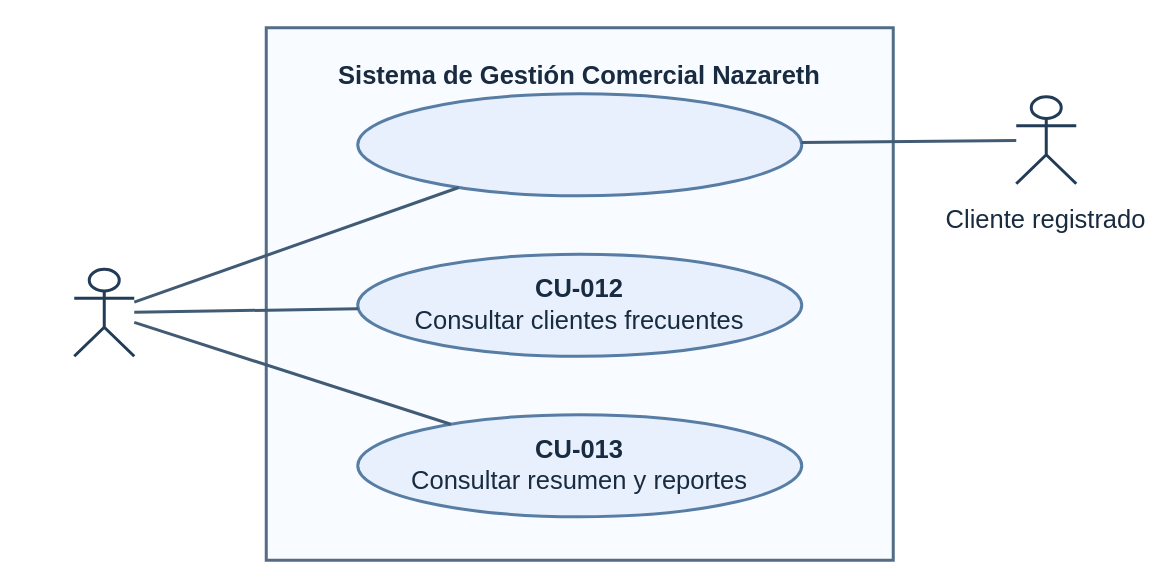
Some shapes in this 1173 by 587 pixel diagram are drawn without their labels. Each missing label, with the centre of its shape:
"Administrador" belongs at (x=103, y=312).
"CU-011 Iniciar y cerrar sesión" belongs at (x=579, y=144).
